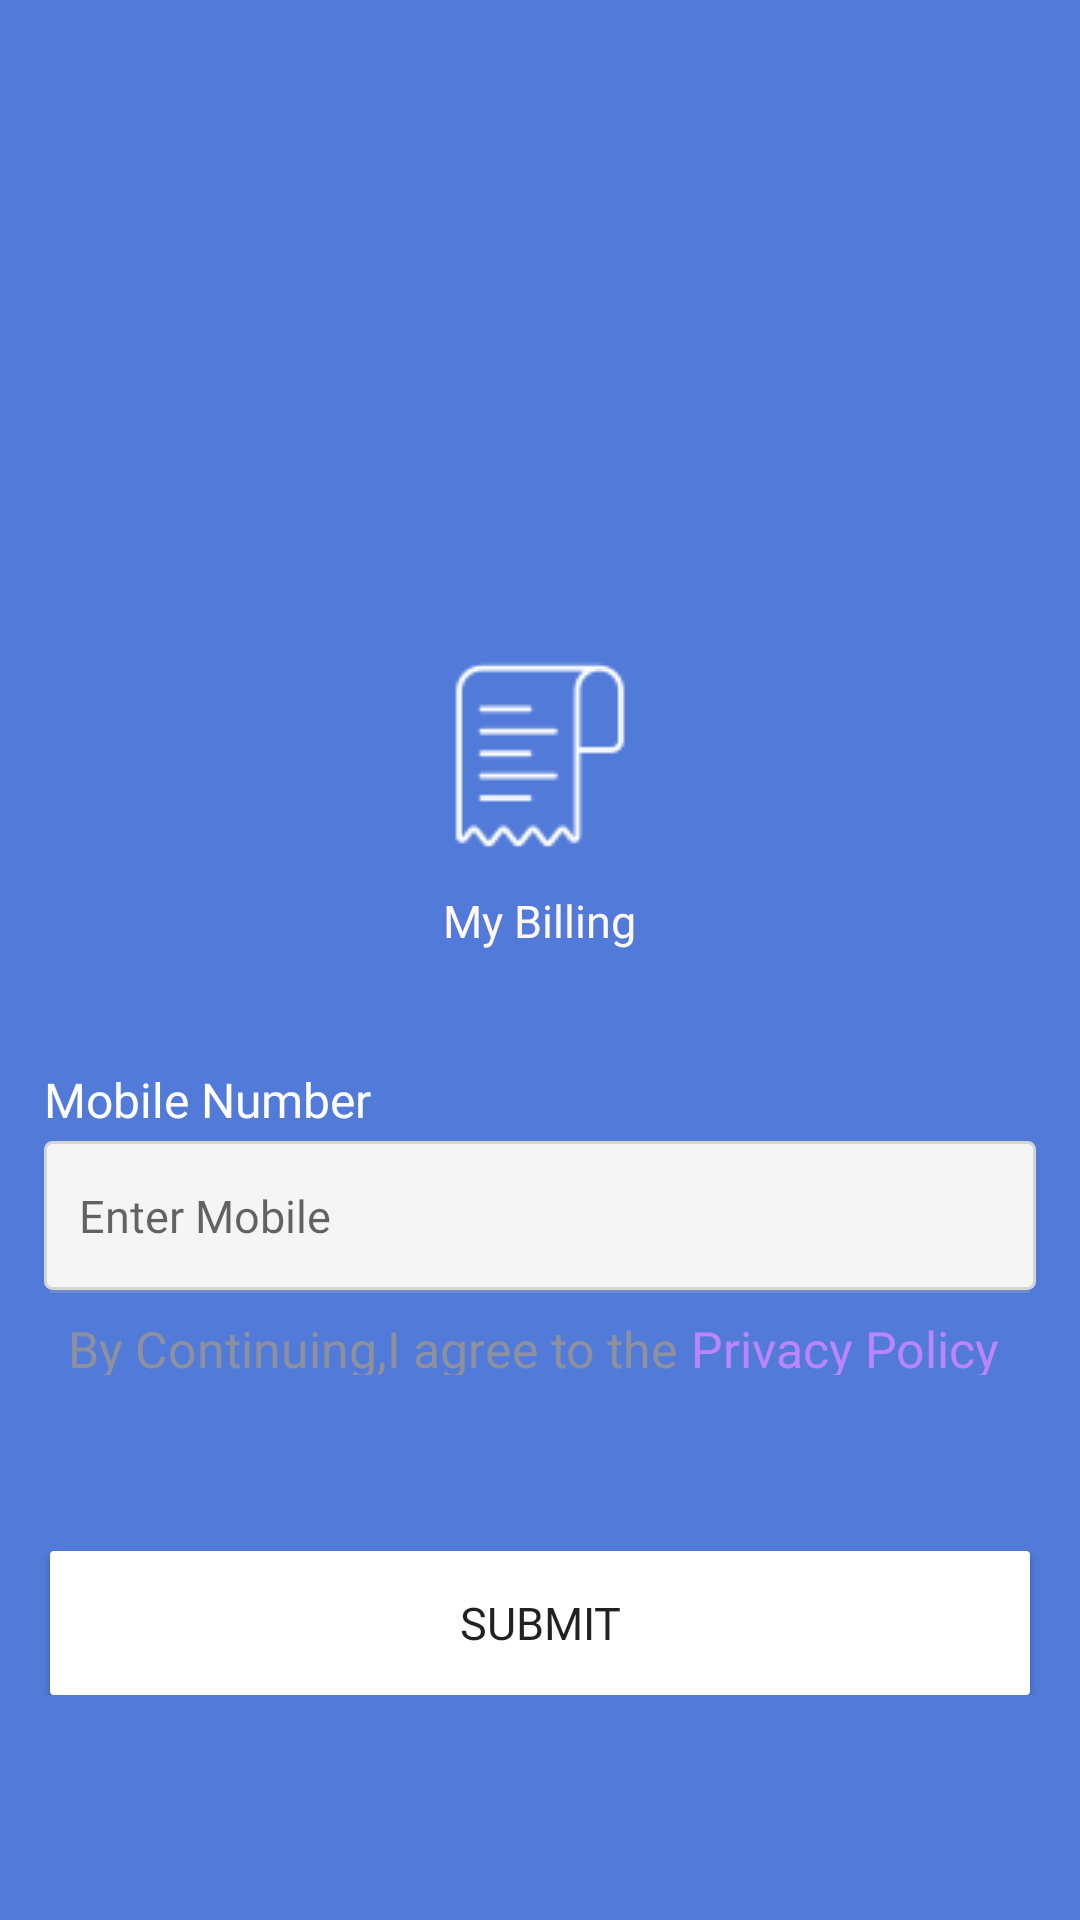

Icon bounding boxes for this 1080×1920 phone screenshot, format (x1, y1, x2, y2):
appicon: (455, 664, 625, 847)
